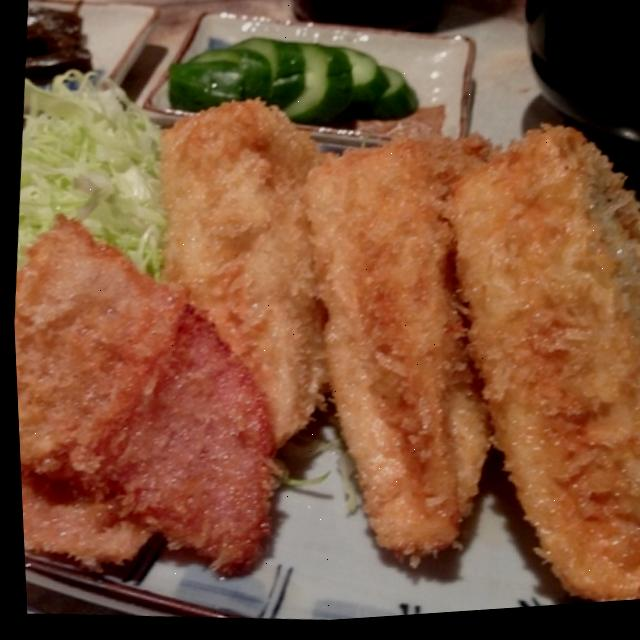炸货点心: (2, 32, 640, 640)
